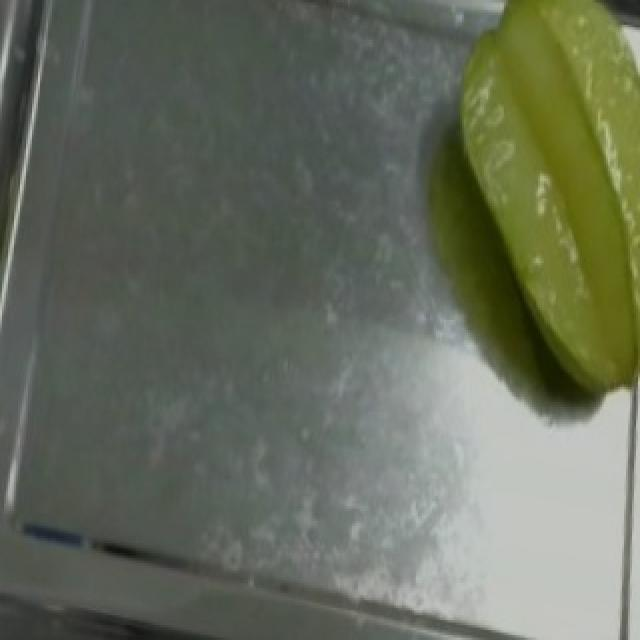fruit: (442, 8, 640, 384)
